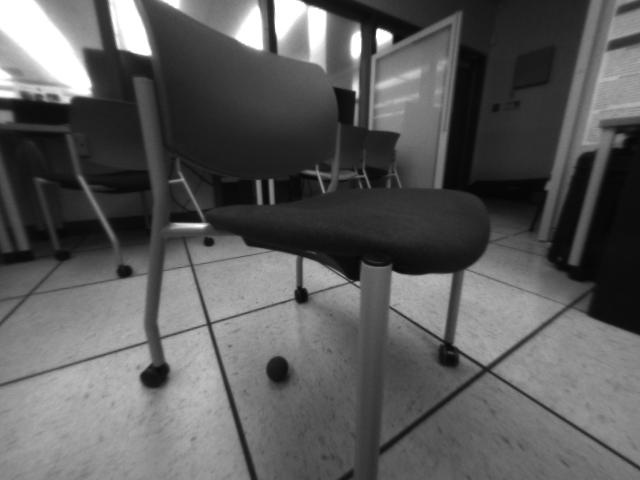dogtoy: (260, 350, 295, 389)
